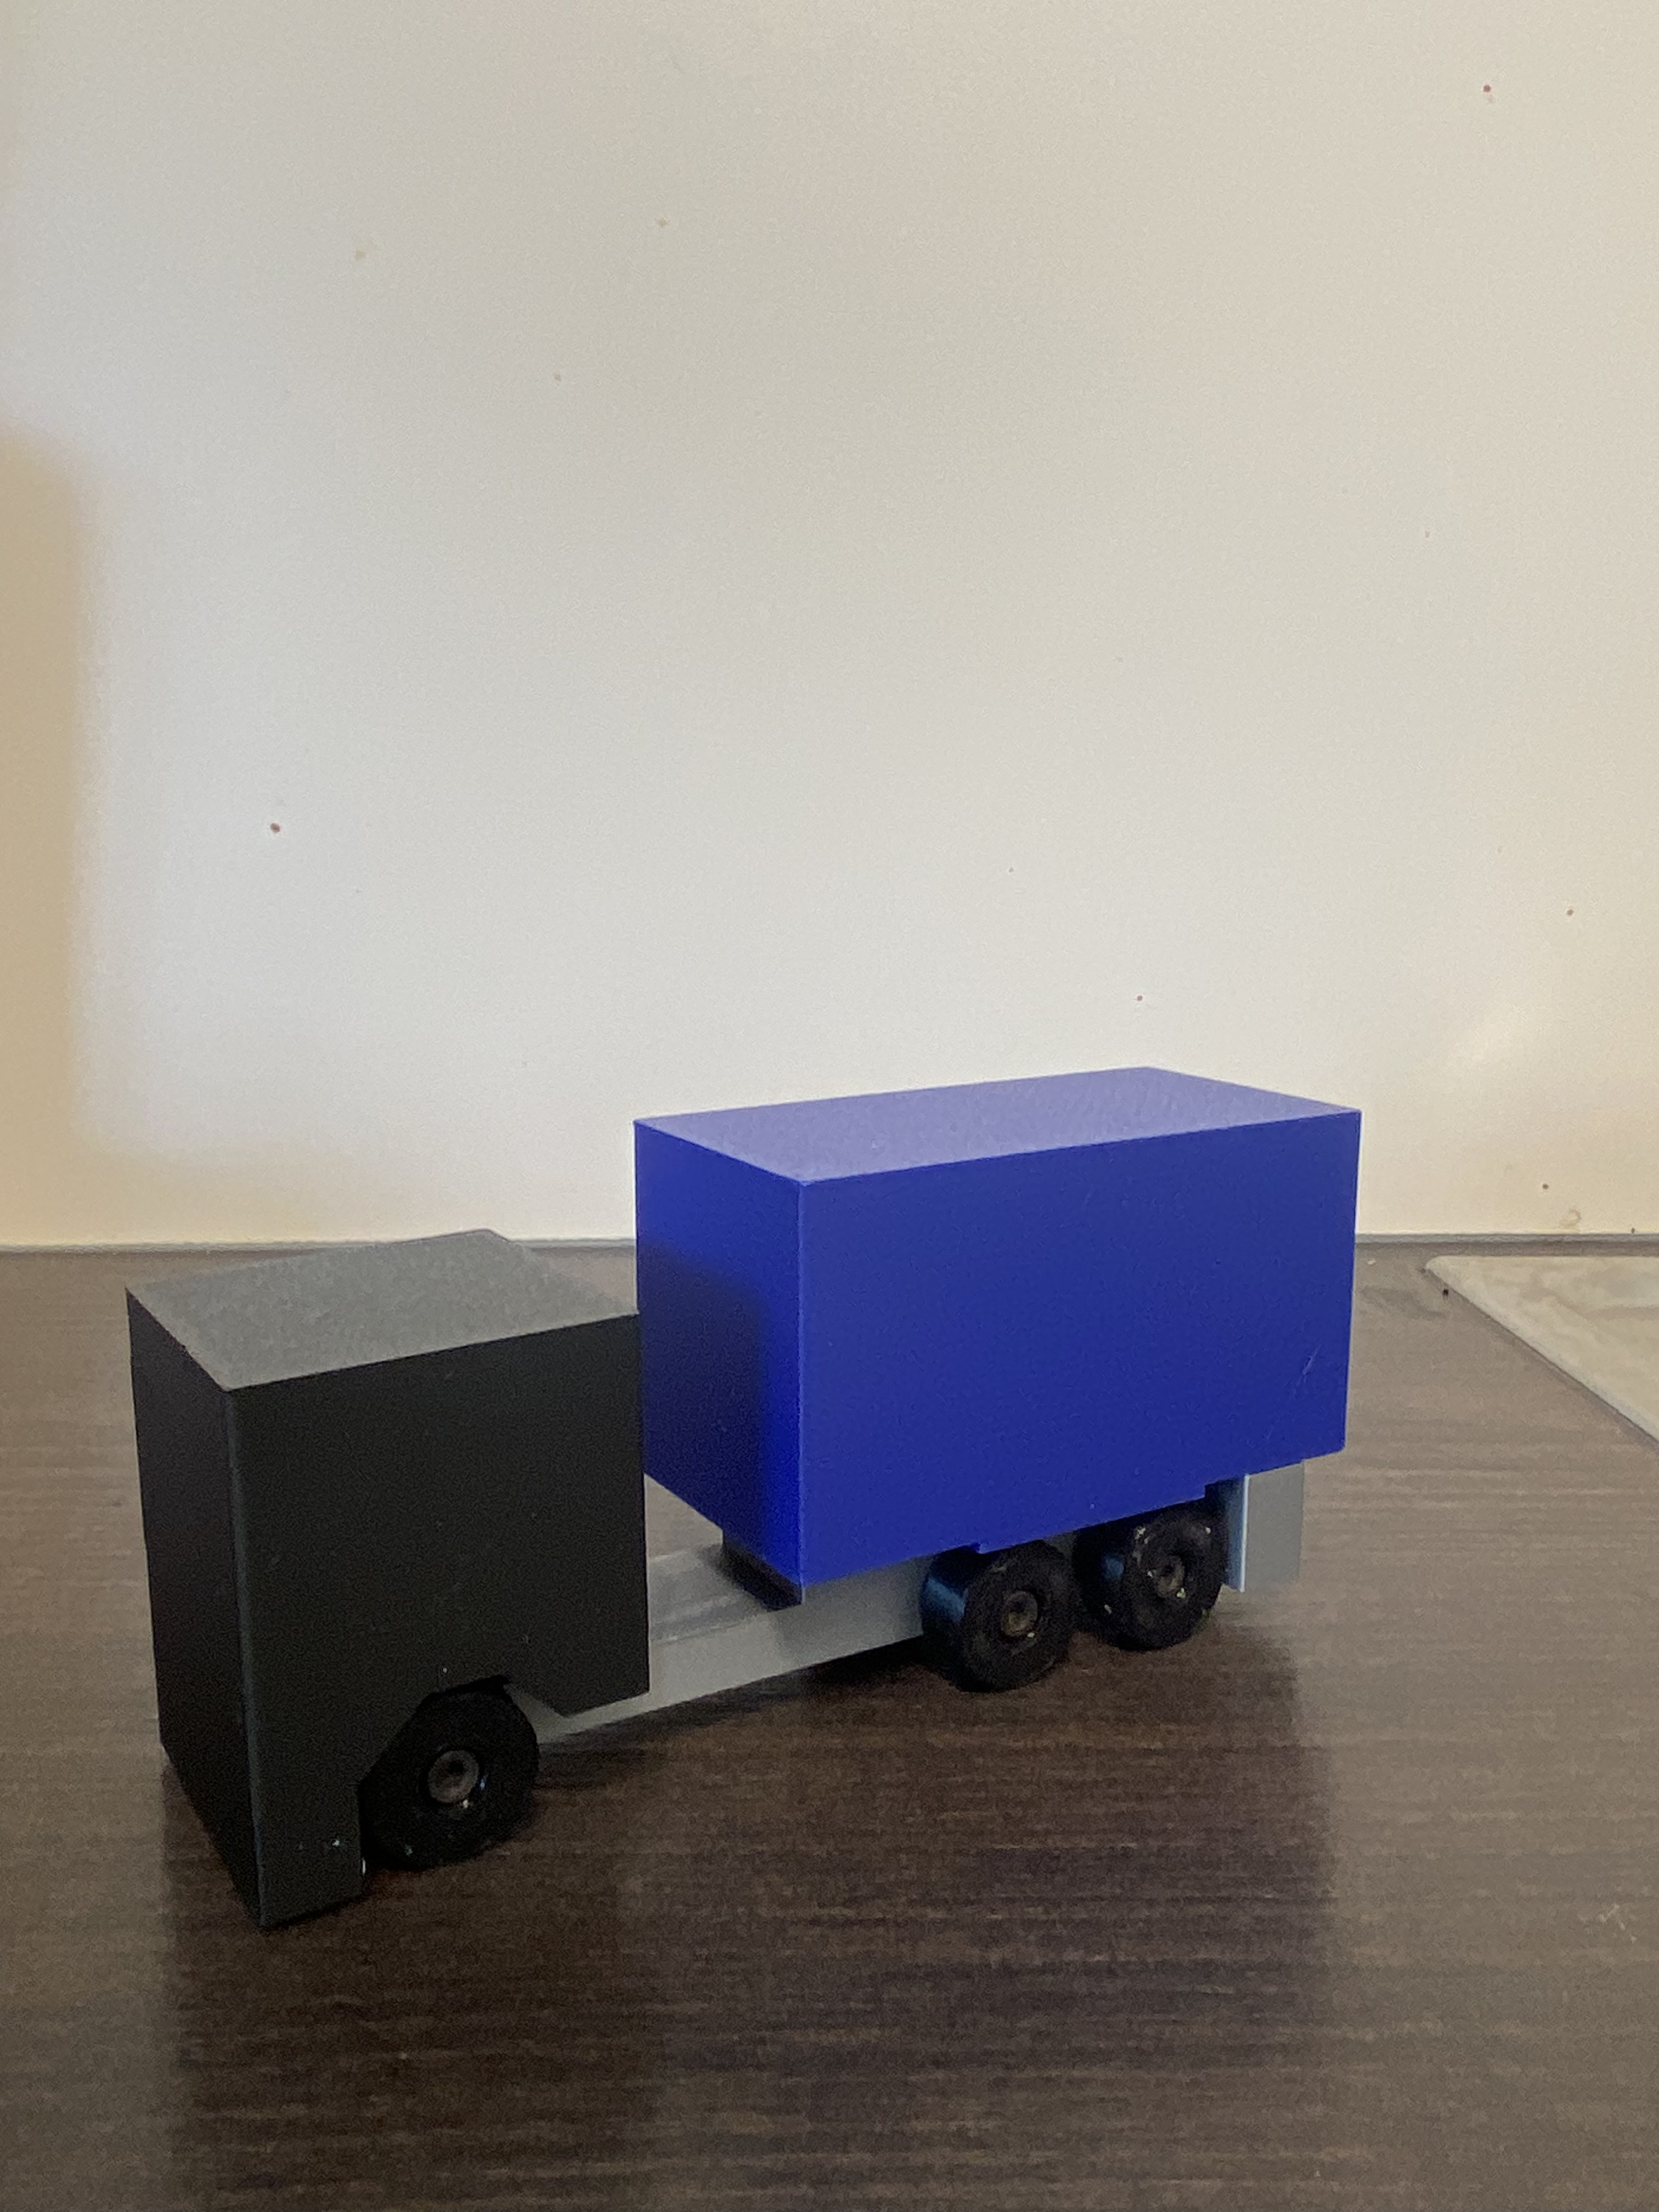blue_truck: (119, 1068, 1361, 1940)
